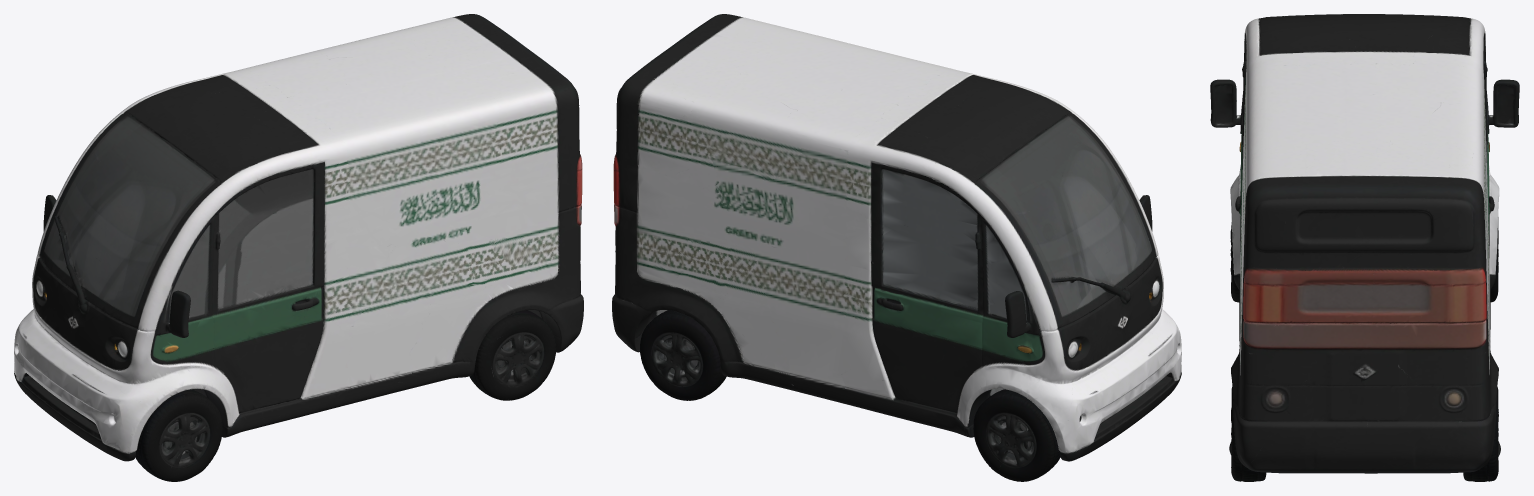
The model's file is shuttle.glb.
3 renders of one model, left to right at view 1: azimuth 30°, elevation 25°; view 2: azimuth 150°, elevation 25°; view 3: azimuth 270°, elevation 25°, orthographic. The views are drawn at different scales.
Visible parts, largest first — view 1: mesh_node; view 2: mesh_node; view 3: mesh_node.
Boxes of the visible parts, x1,y1,x2,y2 form: mesh_node: (14, 14, 583, 481); mesh_node: (612, 14, 1181, 481); mesh_node: (1210, 14, 1519, 481).
Size of the model in its own units: 1.9 by 1.13 by 0.9753.
1 material, 1 textured.
